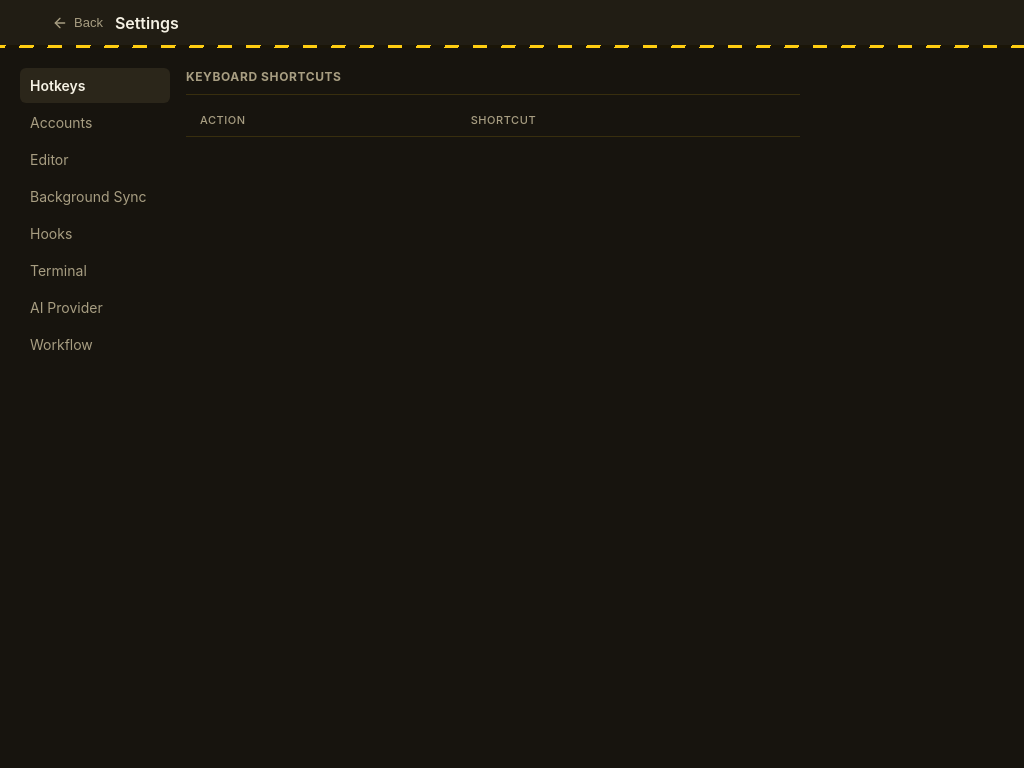
Test: Settings terminal commands › lists existing commands
The width and height of the screenshot is (1024, 768).
Step 1. Click the button "Terminal" → (95, 270), box [20,253,170,288]
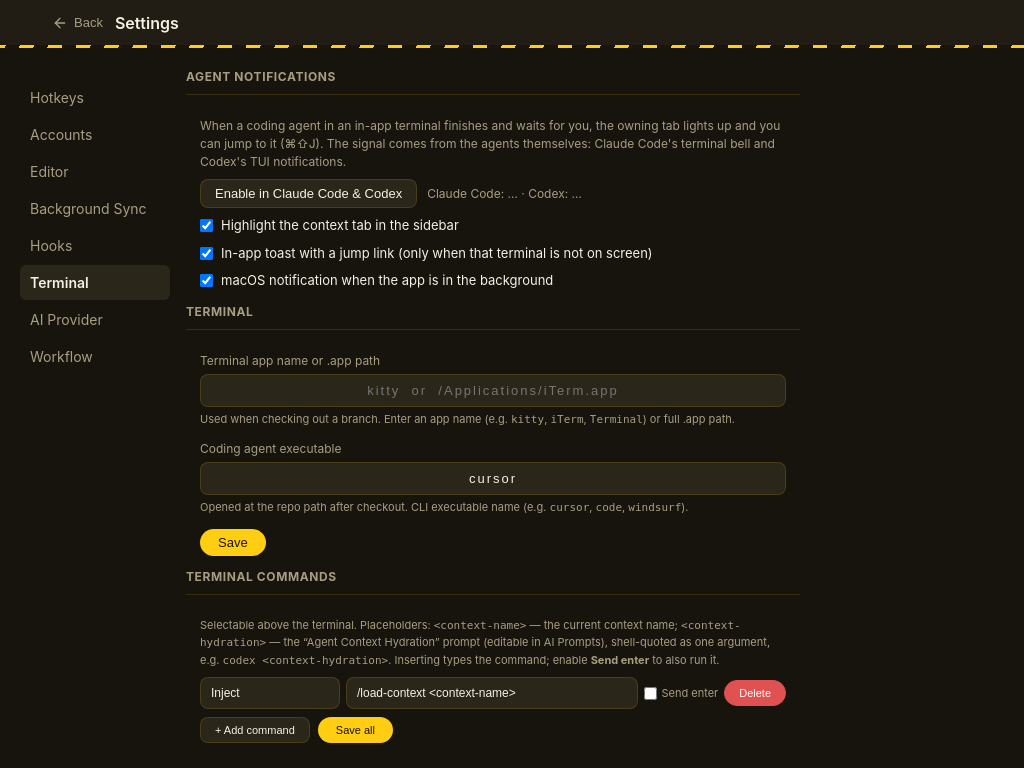
Result: the 2nd field showing "Inject" is shown at [200,677,340,709]
Result: the 3rd field showing "/load-context <context-name>" is shown at [346,677,638,709]
